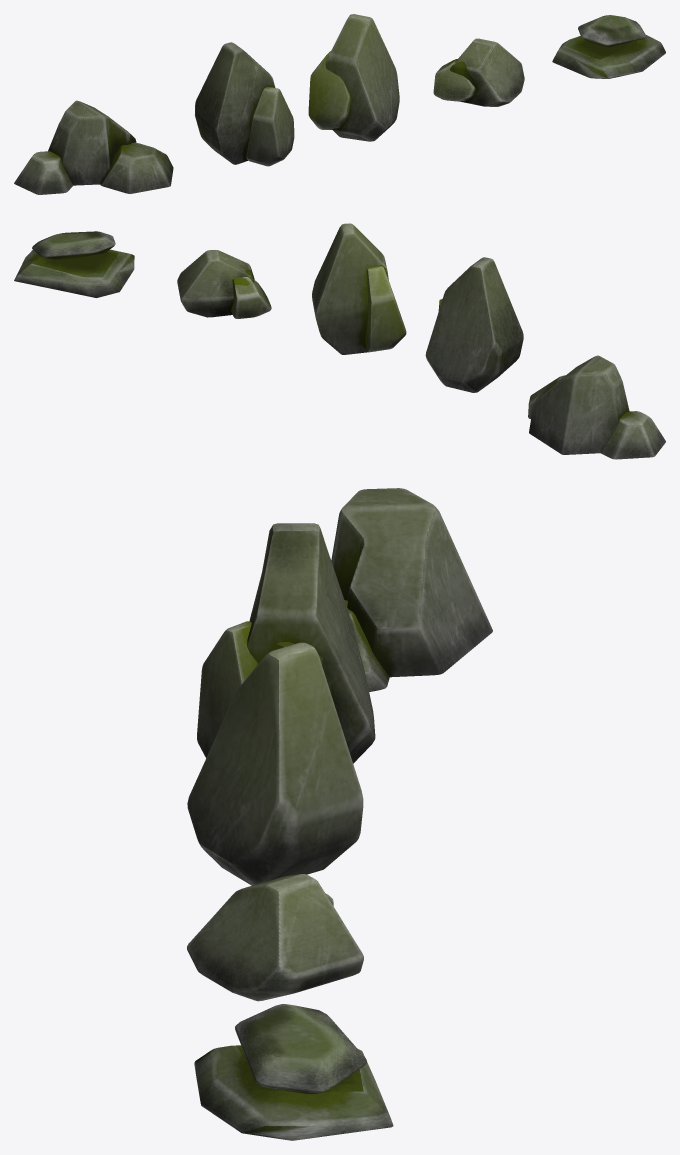
The model's file is rocksCombined_unity.fbx.
The picture shows the model from 3 angles, top to bottom: view 1: azimuth 30°, elevation 25°; view 2: azimuth 150°, elevation 25°; view 3: azimuth 270°, elevation 25°; orthographic projection. The views are drawn at different scales.
Visible parts, largest first — view 1: rock 024; view 2: rock 024; view 3: rock 024.
Part boxes in pixels (x1,y1,x2,y2): rock 024: [14, 14, 665, 194]; rock 024: [14, 223, 665, 459]; rock 024: [187, 488, 492, 1140].
Bounding box in the file's own units: 251 × 54.4 × 44.36.
